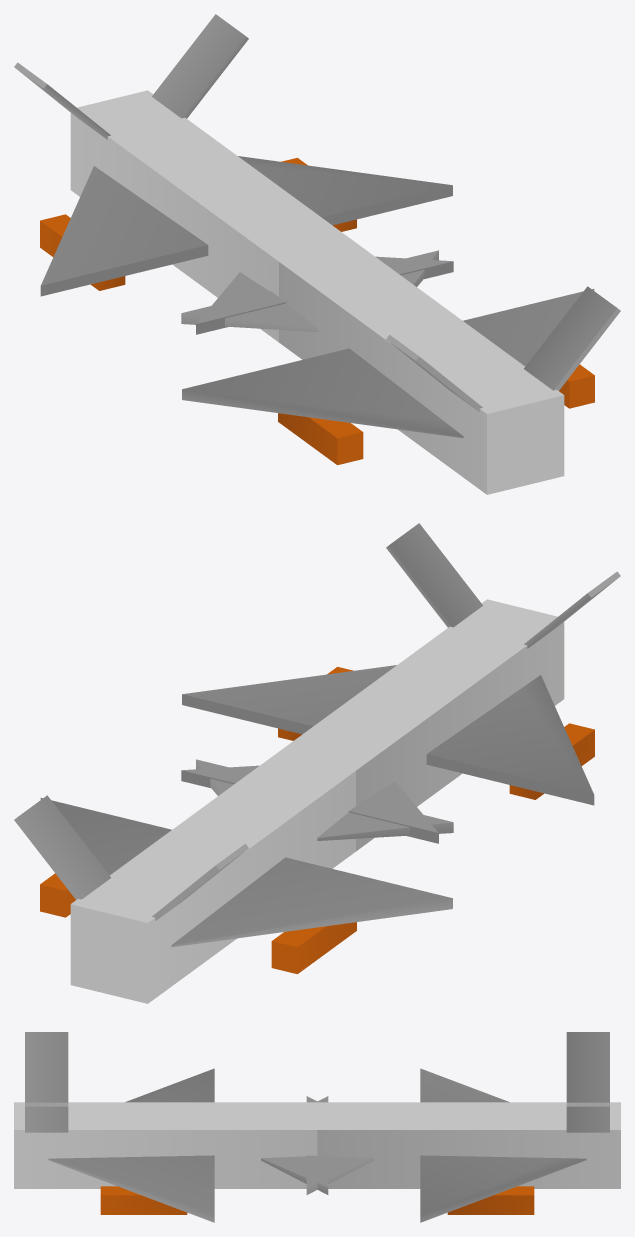
The model's file is fighter-body.glb.
The picture shows the model from 3 angles, top to bottom: view 1: azimuth 30°, elevation 25°; view 2: azimuth 150°, elevation 25°; view 3: azimuth 270°, elevation 25°; orthographic projection. The views are drawn at different scales.
Parts seen in each view (by area): view 1: mesh0, muzzle; view 2: muzzle, mesh0; view 3: mesh0, muzzle.
Boxes of the visible parts, left/top/right/bottom form: mesh0: left=182, top=243, right=620, bottom=494; muzzle: left=14, top=14, right=452, bottom=342; muzzle: left=14, top=752, right=452, bottom=1003; mesh0: left=182, top=523, right=620, bottom=851; mesh0: left=14, top=1032, right=373, bottom=1222; muzzle: left=261, top=1032, right=620, bottom=1222.
Size of the model in its own units: 0.32 by 0.1097 by 0.56.
